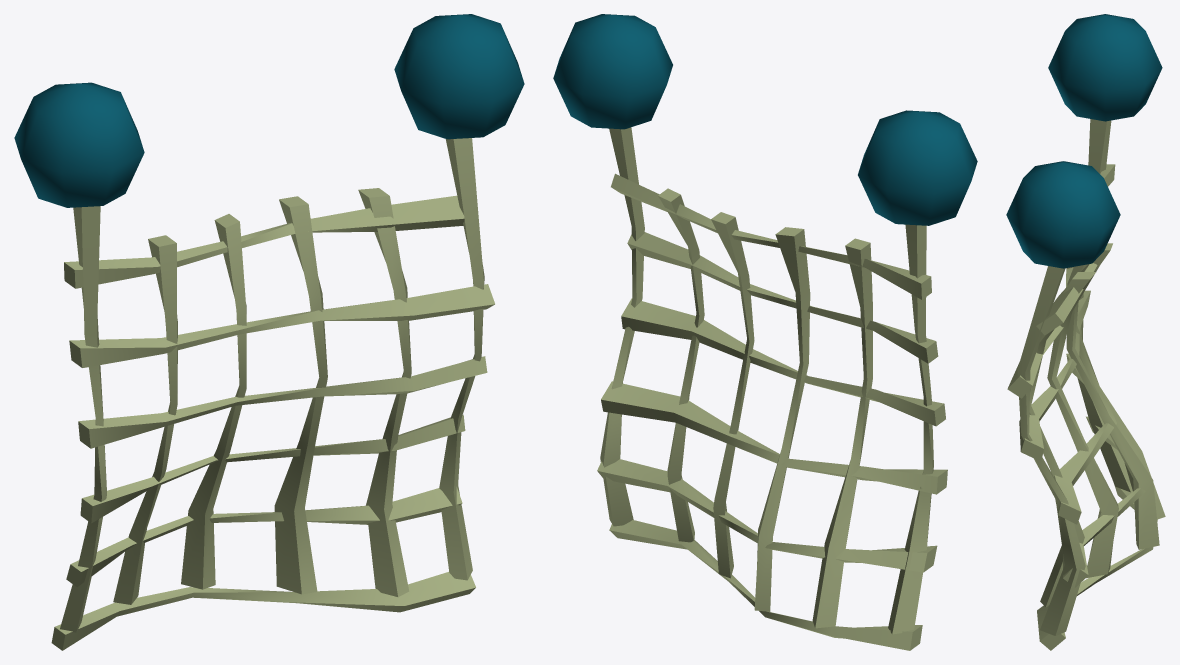
File: aerealNet.fbx
3 views of the same model, side by side, from view 1: azimuth 30°, elevation 25°; view 2: azimuth 150°, elevation 25°; view 3: azimuth 270°, elevation 25° (orthographic). The views are drawn at different scales.
Parts seen in each view (by area): view 1: red; view 2: red; view 3: red.
Boxes of the visible parts, <box> form: red: <box>14,14,524,650</box>; red: <box>553,14,977,650</box>; red: <box>1006,14,1165,650</box>.
Size of the model in its own units: 136 by 47.02 by 158.
